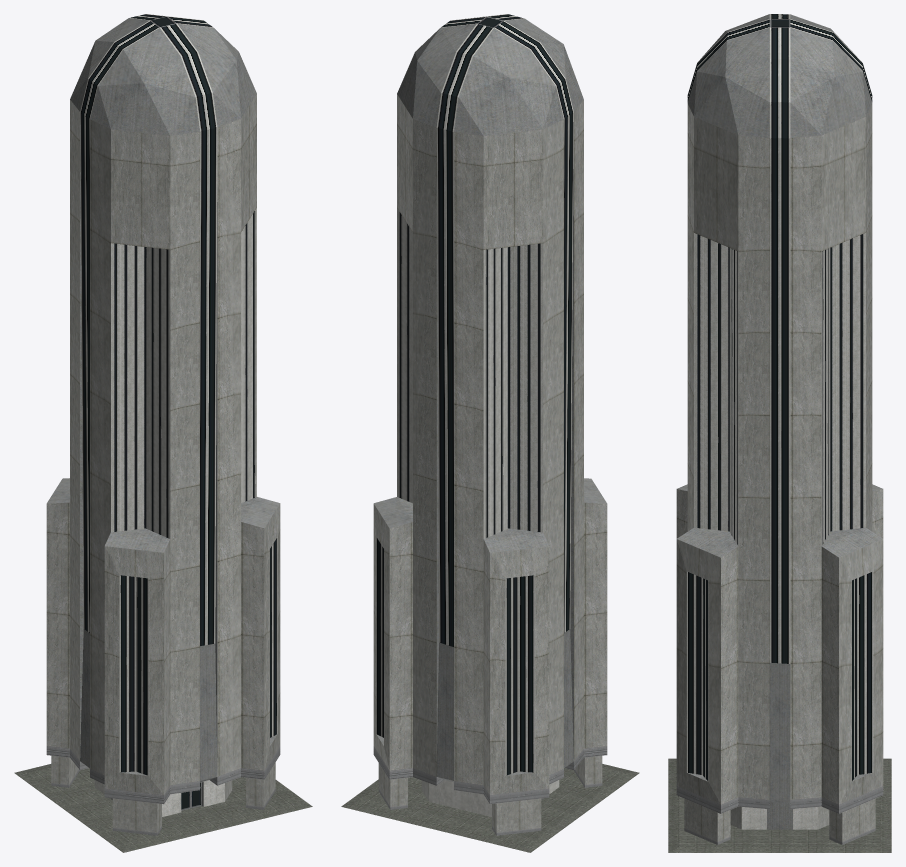
Rendered from thm_corl_skyskraper_s05_r0_mesh_l2.fbx.
The picture shows the model from 3 angles, left to right: view 1: azimuth 30°, elevation 25°; view 2: azimuth 150°, elevation 25°; view 3: azimuth 270°, elevation 25°; orthographic projection.
Parts seen in each view (by area): view 1: mesh_node; view 2: mesh_node; view 3: mesh_node.
Part boxes in pixels (left/top/right/bottom): mesh_node: left=14, top=14, right=312, bottom=852; mesh_node: left=341, top=14, right=639, bottom=852; mesh_node: left=668, top=14, right=891, bottom=852.
Size of the model in its own units: 39.1 by 152 by 39.1.
